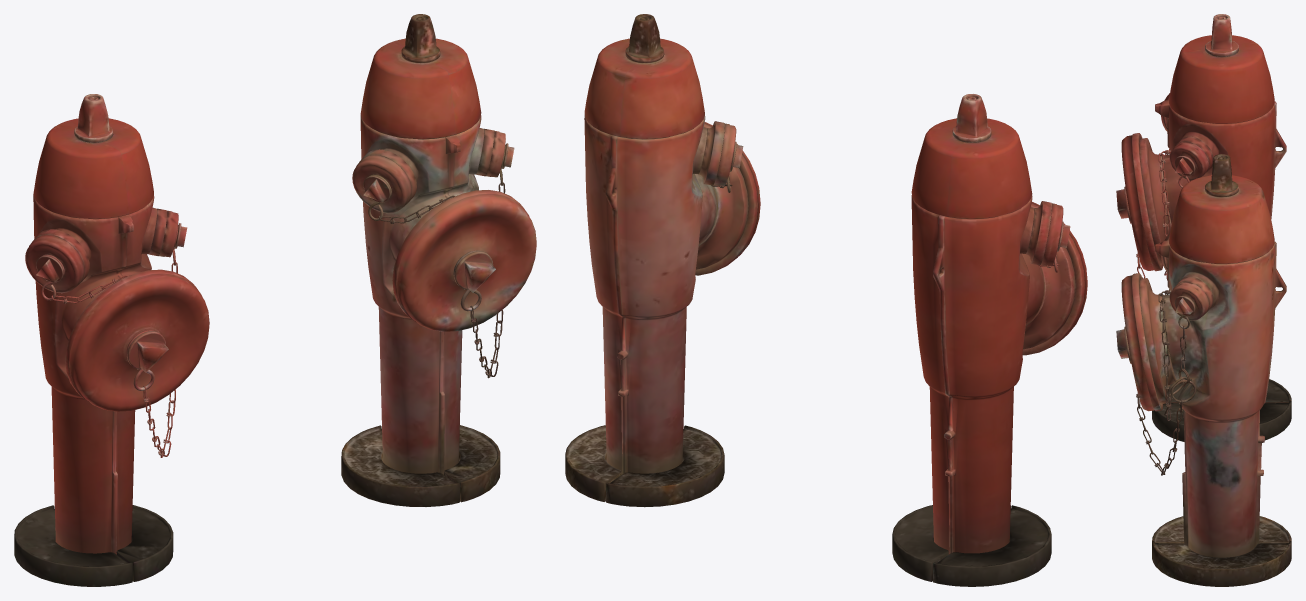
The model's file is fire_hydrant.glb.
The picture shows the model from 3 angles, left to right: view 1: azimuth 30°, elevation 25°; view 2: azimuth 150°, elevation 25°; view 3: azimuth 270°, elevation 25°; orthographic projection. The views are drawn at different scales.
Visible parts, largest first — view 1: fire_hydrant, fire_hydrant_aged; view 2: fire_hydrant_aged, fire_hydrant; view 3: fire_hydrant_aged, fire_hydrant.
Part boxes in pixels (box(x1,y1,x2,y2)): fire_hydrant: box(14, 94, 209, 586); fire_hydrant_aged: box(341, 14, 536, 506); fire_hydrant_aged: box(565, 14, 760, 507); fire_hydrant: box(892, 94, 1087, 586); fire_hydrant_aged: box(1116, 154, 1291, 586); fire_hydrant: box(1116, 14, 1291, 441).
Bounding box in the file's own units: 0.8746 × 0.7995 × 0.3173.
Materials: 2 (2 with a texture image).
